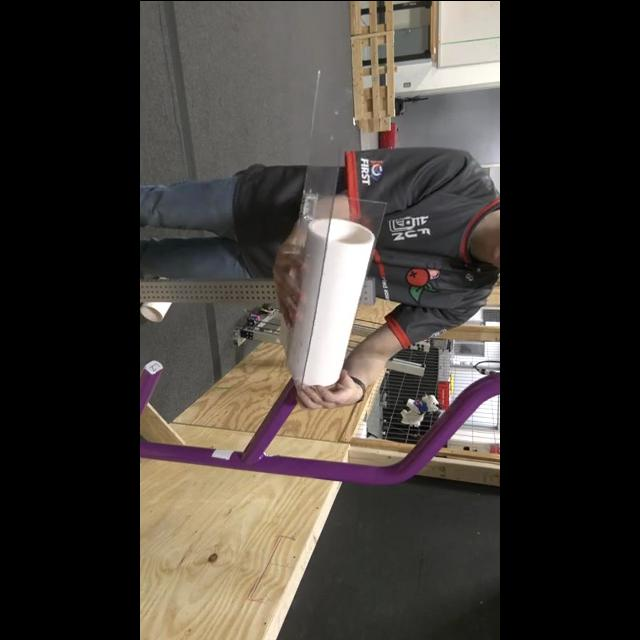CORAL: (285, 214, 377, 390)
